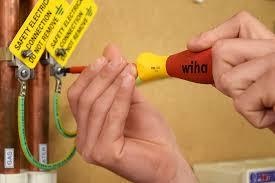screwdriver: (58, 65, 88, 73)
